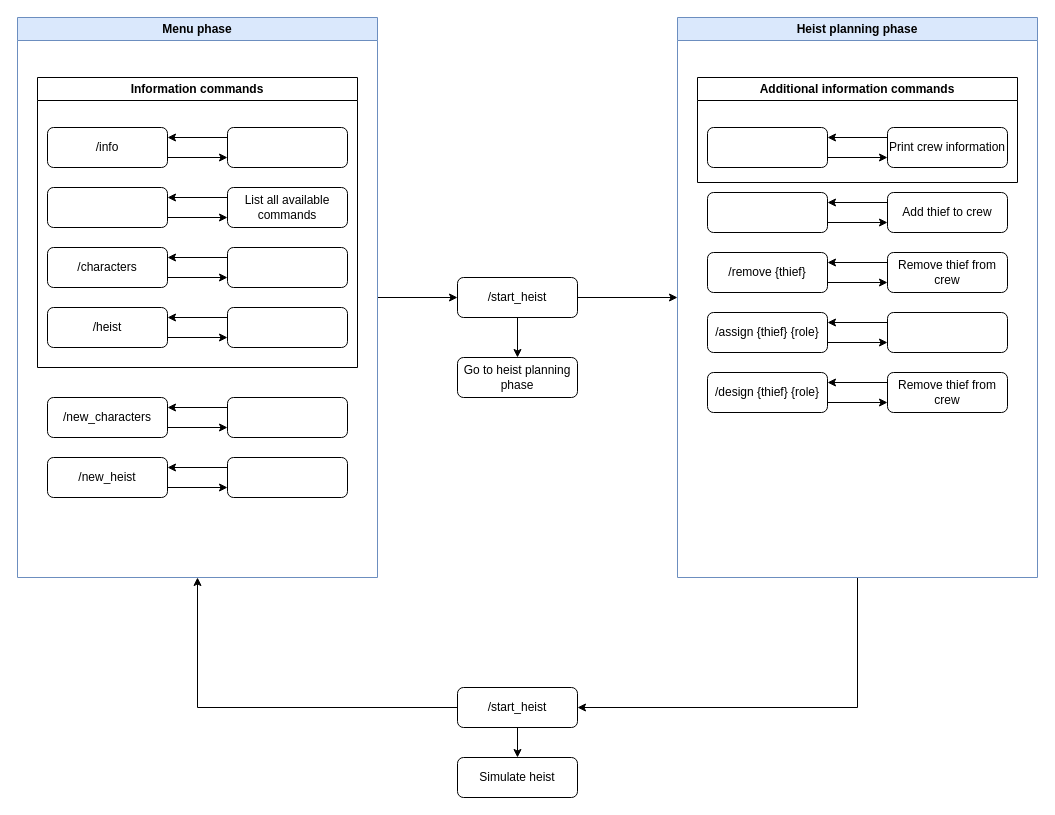
This 1055x815 diagram has some shape labels left out. The shapes that lost their labels are listed below. From the top down, each one's centre as x and y in pixels, then its label:
At pixel 287 147: "Print information about the game".
At pixel 767 147: "/crew".
At pixel 107 207: "/menu".
At pixel 767 212: "/add {thief}".
At pixel 287 267: "List all thief".
At pixel 287 327: "Print heist information".
At pixel 947 332: "Assign role for thief".
At pixel 287 417: "Create new character pool".
At pixel 287 477: "Create a new heist".
